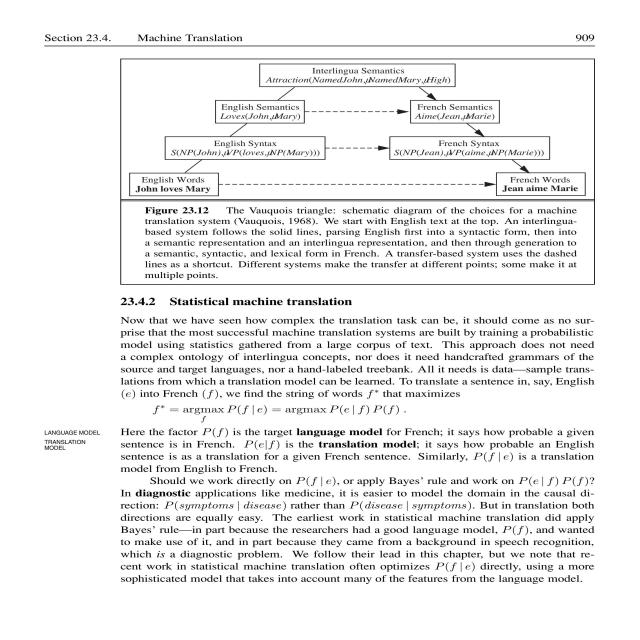diagram: (106, 57, 592, 283)
